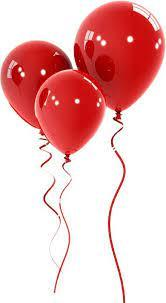red: (77, 1, 166, 111), (1, 38, 72, 130), (34, 70, 104, 153)
